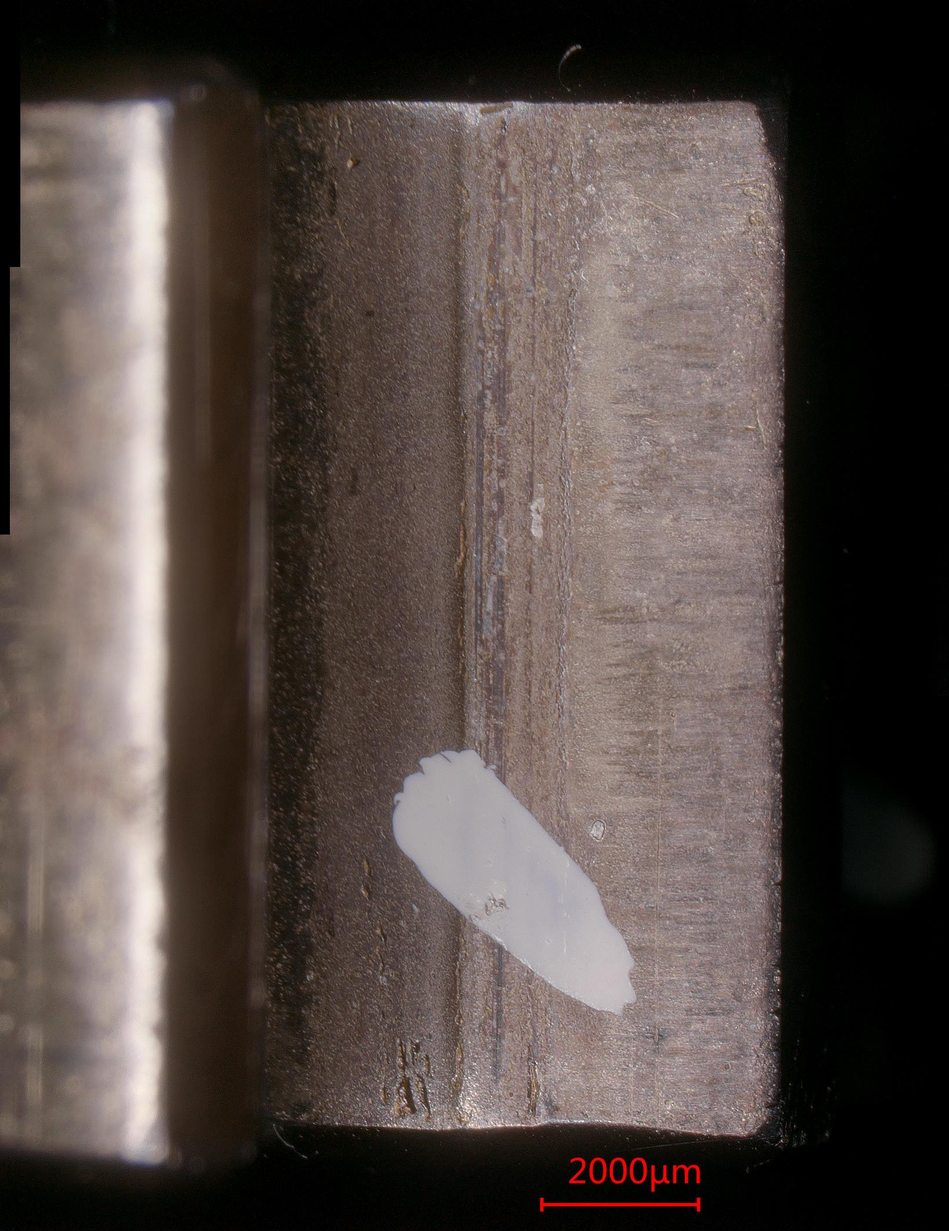Abrasion: (268, 109, 789, 1139)
